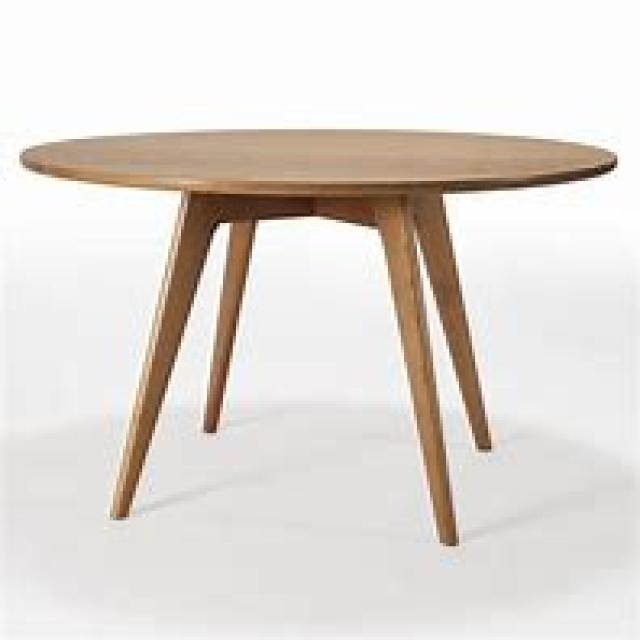table: (16, 126, 618, 546)
